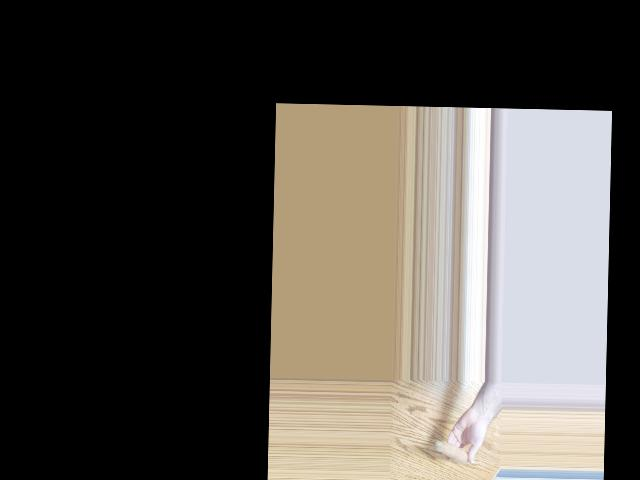sweet_potato: (434, 438, 471, 464)
